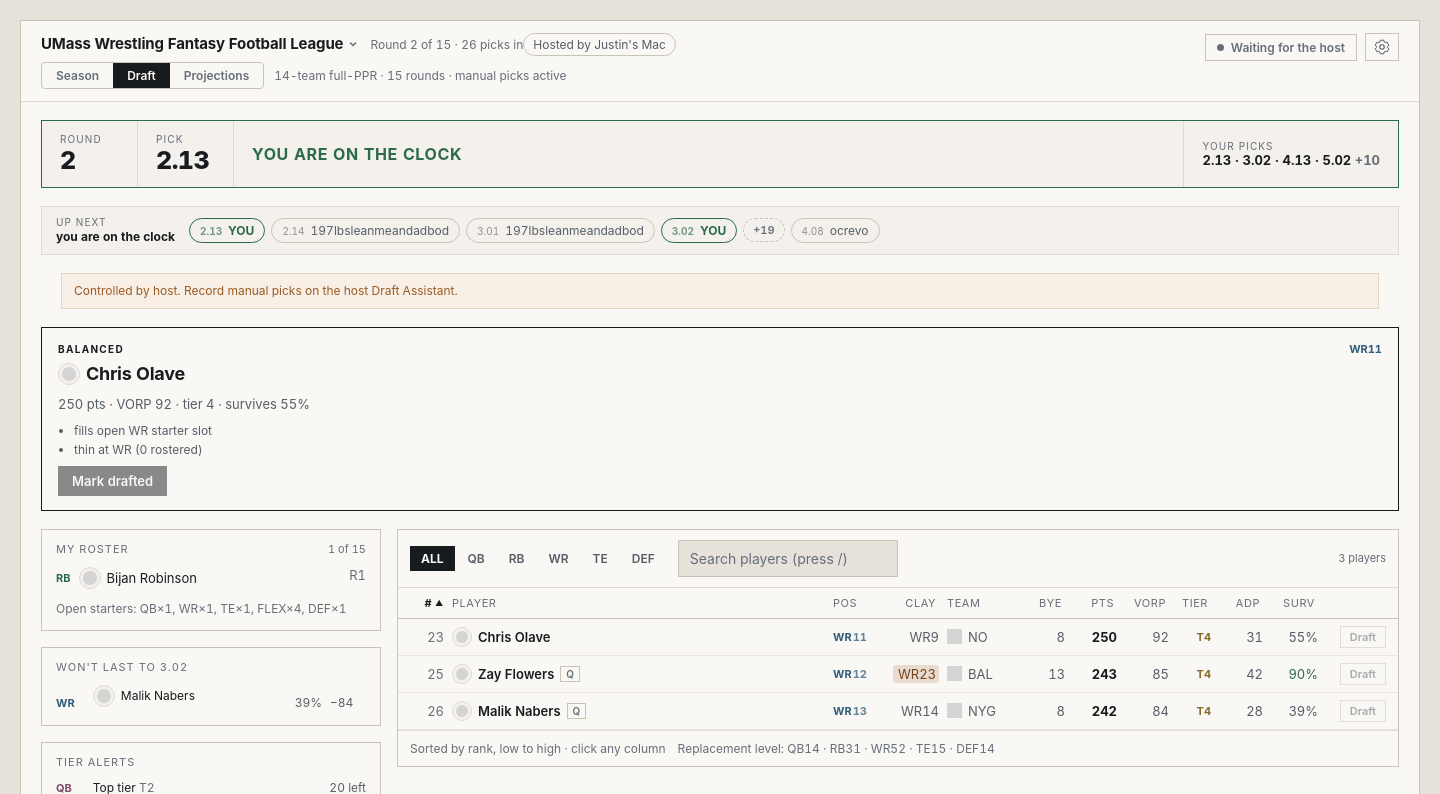
Test: following a host › sends nobody to the league picker: the host chooses
Step 1. Click the button titled "Switch league" → (196, 44), box [37,33,354,54]
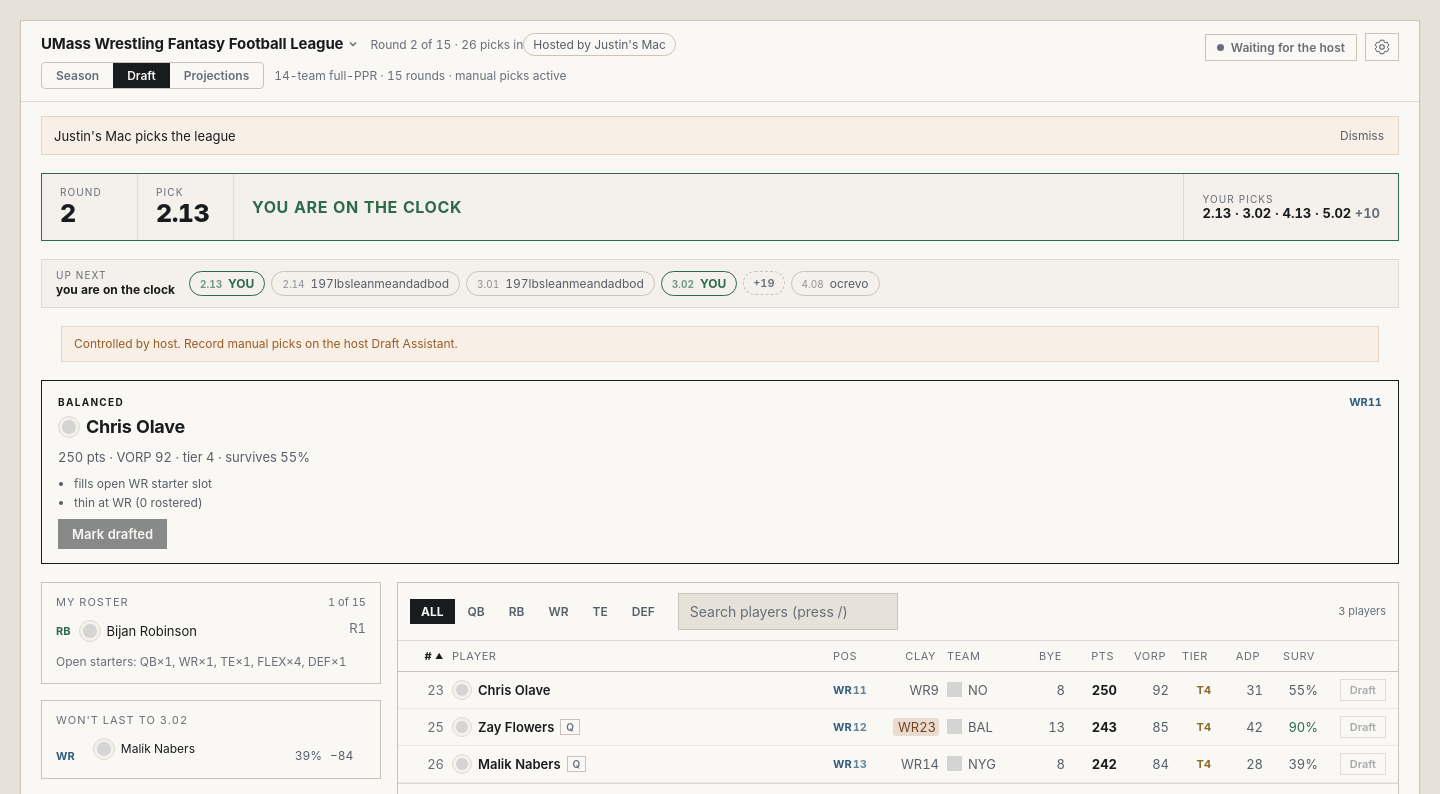
Expected: the text "Justin's Mac picks the league" is shown, [54,128,236,144]
